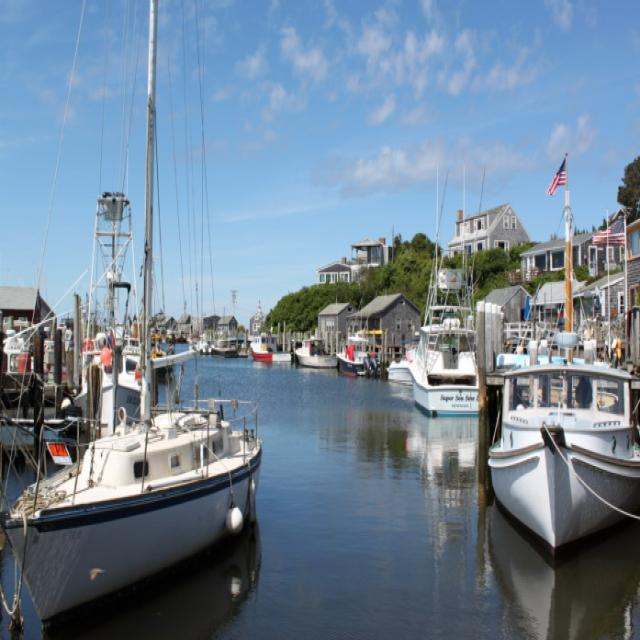houseboat: (15, 403, 276, 617), (477, 336, 637, 552)
